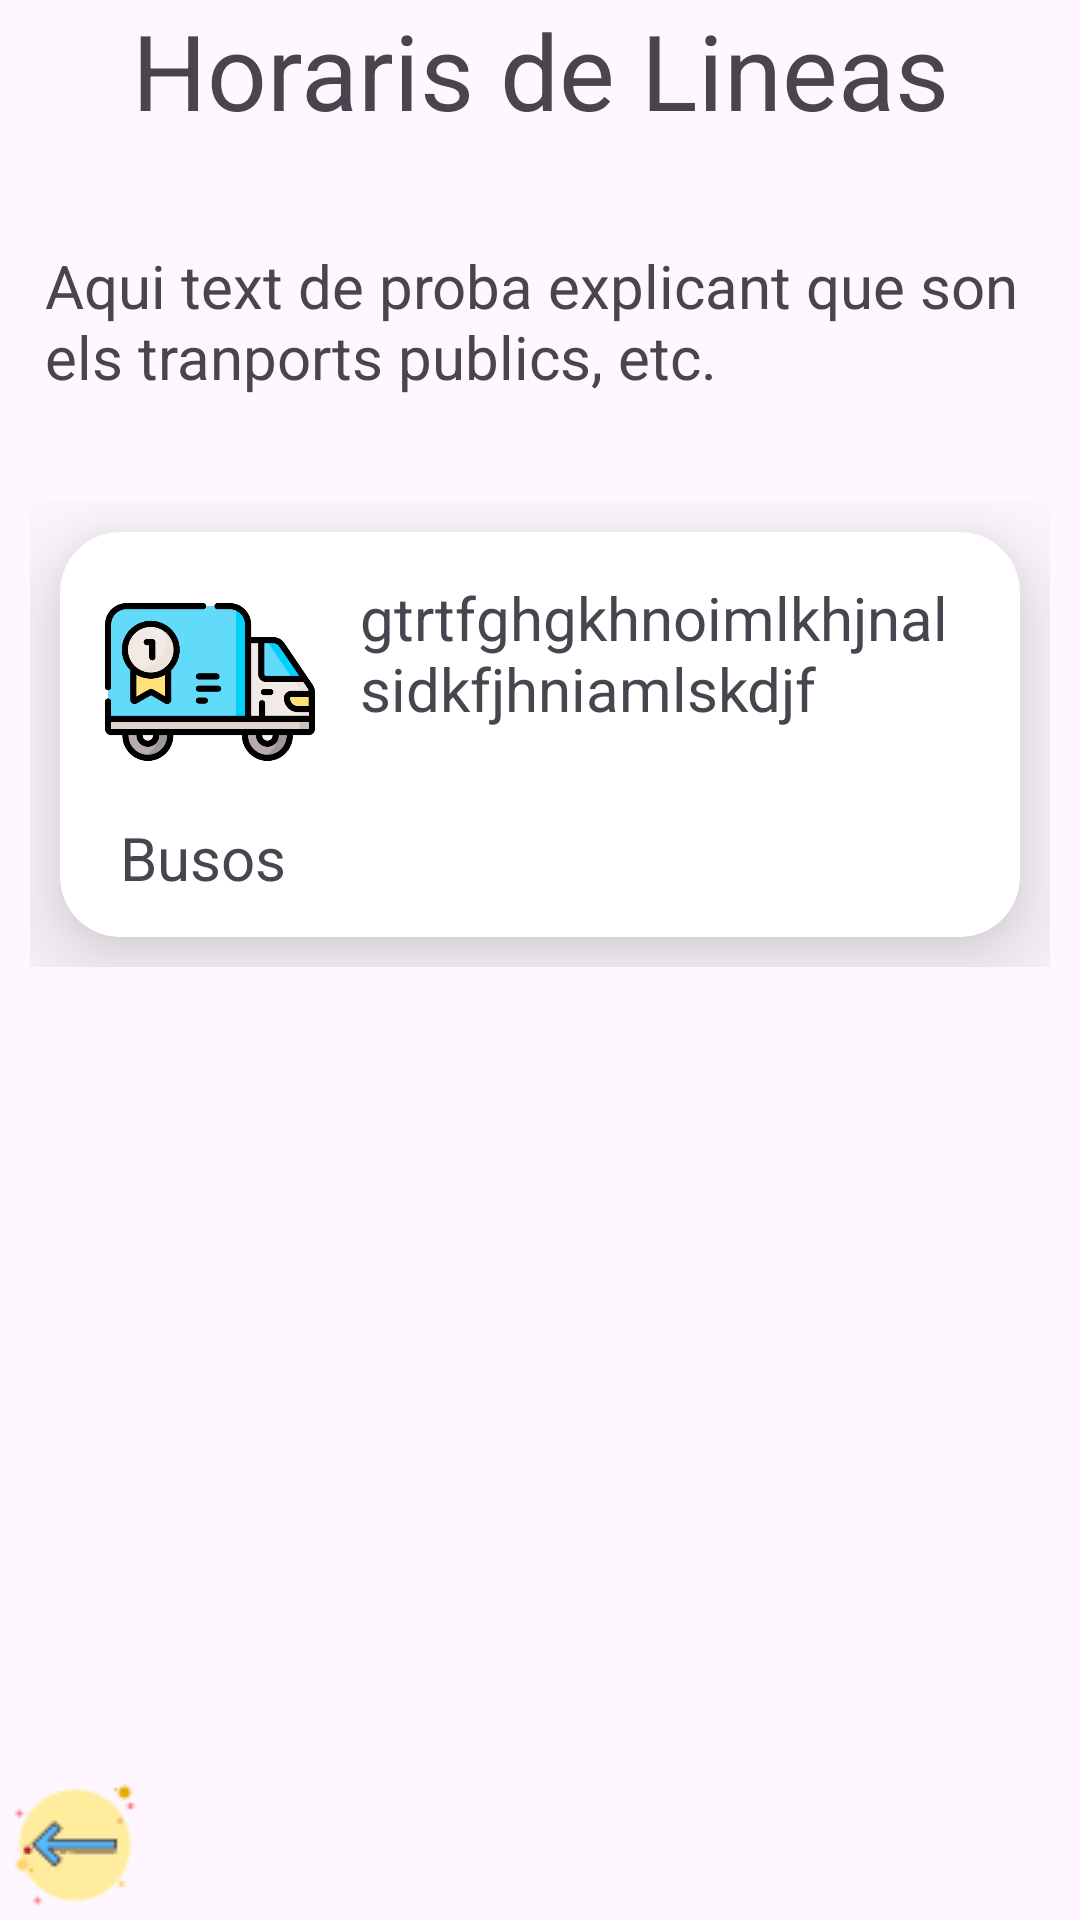

Point at icon controls on the screen. Image size 1080px x 1920px, points as point (x, y).
arrowback: point (75, 1844)
transports: point (210, 682)
